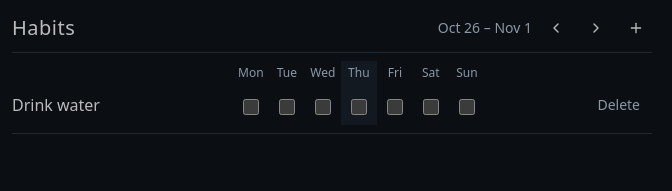
it: adding a habit › commits with Enter: sends the name with the bearer token, appends the row, closes the draft, refocuses +
This screenshot has width=672, height=191.
Expected: the column heading "Drink water" is shown, 12,85 -> 233,125
Click the button named "Add habit" at [636, 28], box 620,12 -> 652,44
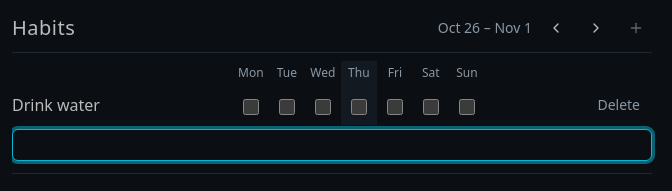
Type "Stretch" into the field named "New habit" at [332, 145], box 12,129 -> 652,161
Then press Enter
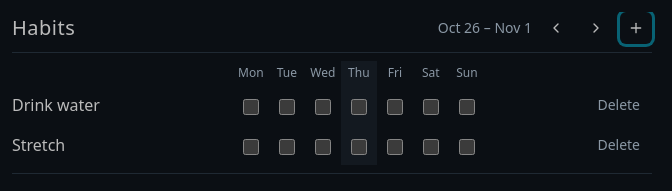
Expected: the button named "Add habit" is enabled, 620,12 -> 652,44
